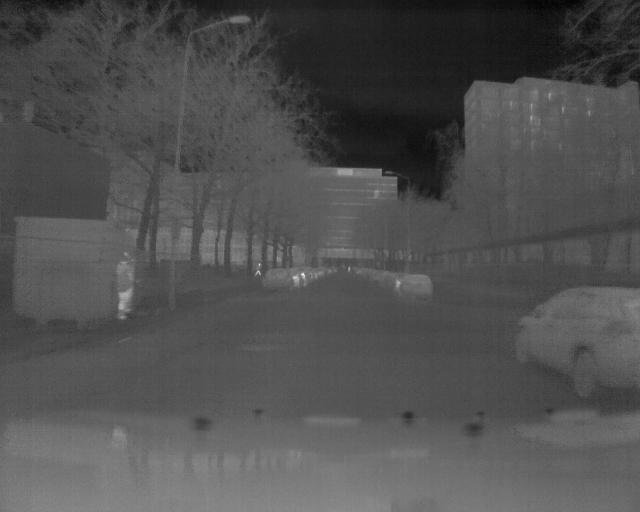car: (513, 285, 640, 401), (393, 274, 436, 304), (260, 269, 295, 297)
person: (114, 248, 136, 324)
